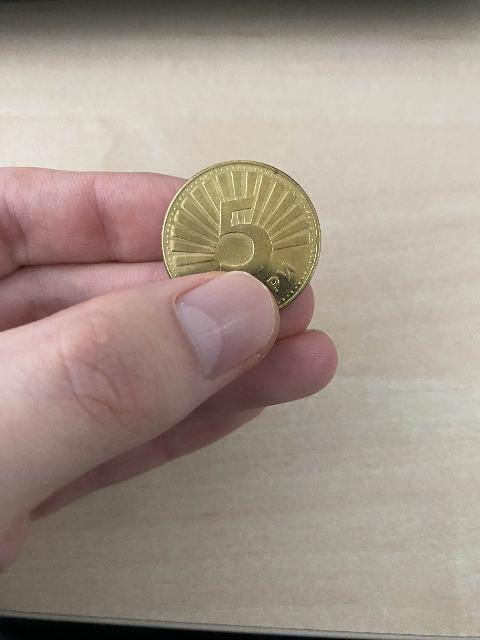5_coin: (163, 161, 320, 308)
